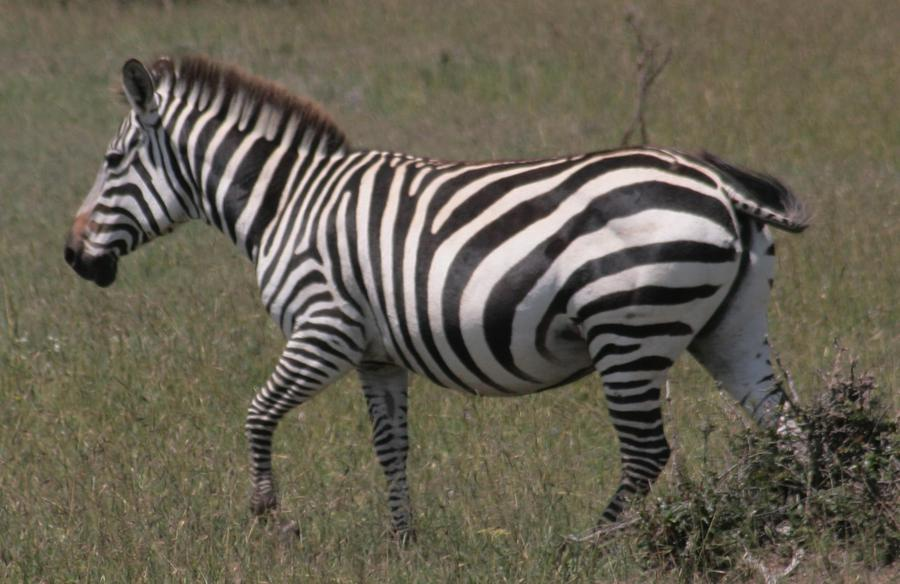zebra_plains: (247, 120, 718, 410)
